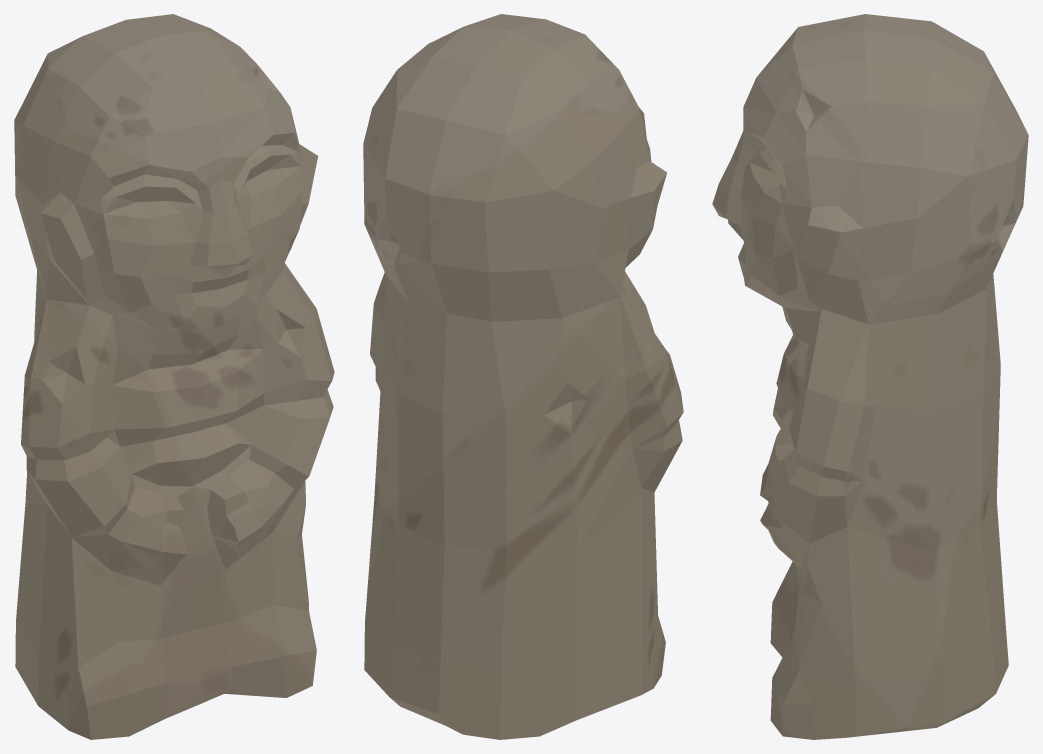
Rendered from samurai_SM_Prop_Statue_03.gltf.
3 renders of one model, left to right at view 1: azimuth 30°, elevation 25°; view 2: azimuth 150°, elevation 25°; view 3: azimuth 270°, elevation 25°, orthographic.
Parts seen in each view (by area): view 1: SM_Prop_Statue_03; view 2: SM_Prop_Statue_03; view 3: SM_Prop_Statue_03.
Boxes of the visible parts, x1,y1,x2,y2 form: SM_Prop_Statue_03: [14, 14, 334, 739]; SM_Prop_Statue_03: [363, 14, 683, 739]; SM_Prop_Statue_03: [712, 14, 1028, 739].
Size of the model in its own units: 0.3441 by 0.696 by 0.3058.
Materials: 1 (1 with a texture image).
